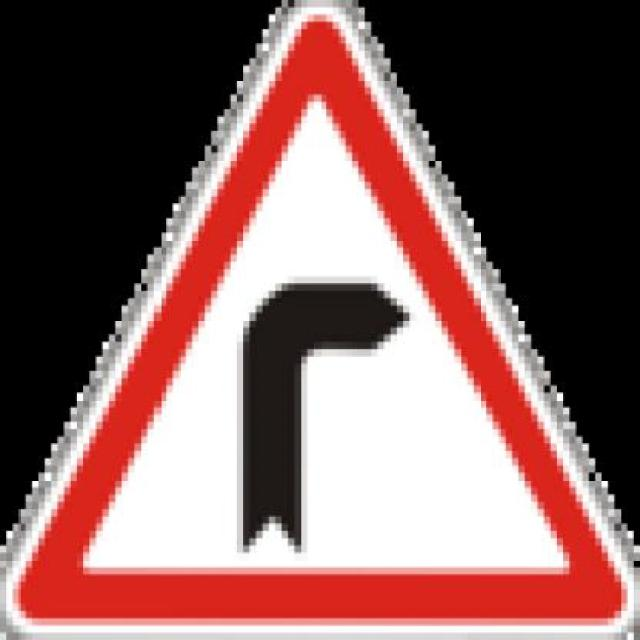Dangerous Rright Curve Ahead: (0, 0, 635, 634)
